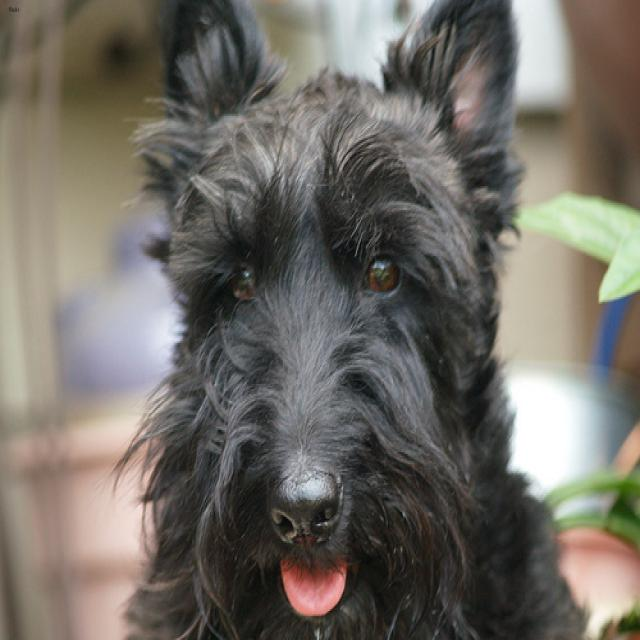dog-scottish_terrier: (99, 2, 604, 637)
